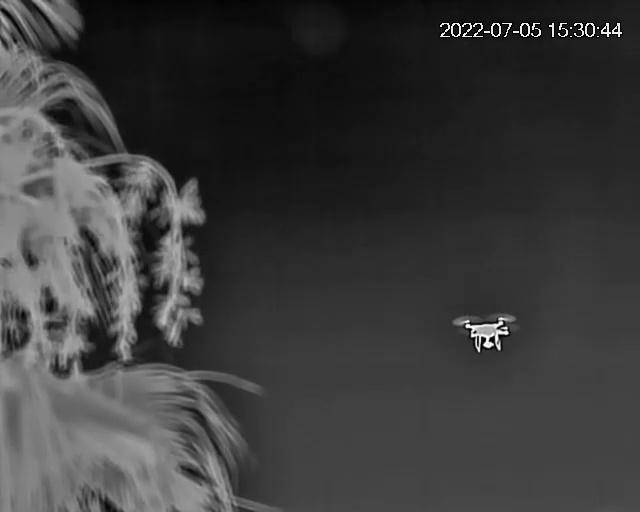DJI-Phantom: (448, 306, 528, 362)
